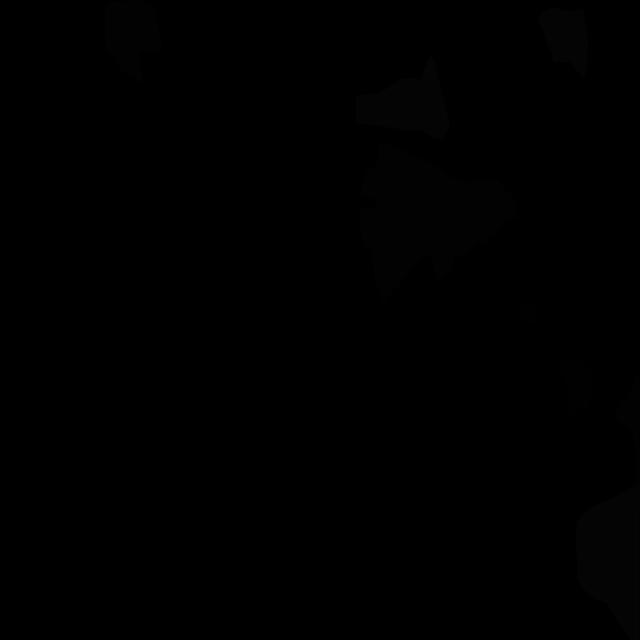cardboard: (360, 142, 517, 302), (105, 0, 162, 84), (613, 371, 640, 485)
rigid_plastic: (560, 356, 594, 418), (519, 302, 544, 327)
soft_plastic: (576, 482, 640, 640), (356, 55, 450, 140), (538, 7, 588, 80)
